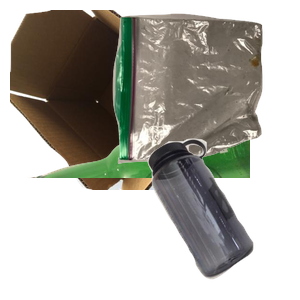cardboard: (10, 10, 218, 190)
glass: (23, 120, 263, 300)
plastic: (145, 136, 300, 300)
trash: (110, 11, 300, 167)
